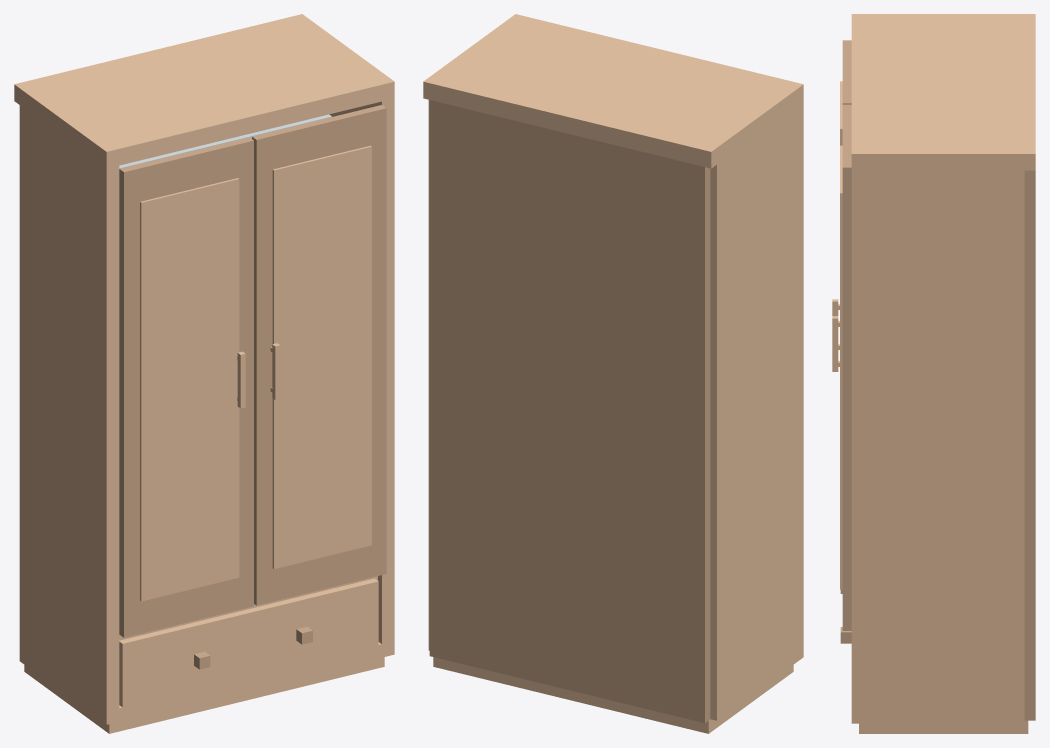
The model's file is wardrobePine.glb.
3 renders of one model, left to right at view 1: azimuth 30°, elevation 25°; view 2: azimuth 150°, elevation 25°; view 3: azimuth 270°, elevation 25°, orthographic.
Visible parts, largest first — view 1: wardrobePine, anim:doorL, anim:doorR, anim:interior; view 2: wardrobePine; view 3: wardrobePine, anim:doorR, anim:doorL.
Part boxes in pixels (x1=…): wardrobePine: x1=14, y1=14, x2=394, y2=733; anim:doorL: x1=119, y1=137, x2=253, y2=637; anim:doorR: x1=252, y1=105, x2=386, y2=605; anim:interior: x1=119, y1=114, x2=331, y2=168; wardrobePine: x1=423, y1=14, x2=803, y2=733; wardrobePine: x1=840, y1=14, x2=1035, y2=733; anim:doorR: x1=832, y1=104, x2=851, y2=630; anim:doorL: x1=832, y1=40, x2=851, y2=349.
Size of the model in its own units: 0.45 by 0.875 by 0.2765.
